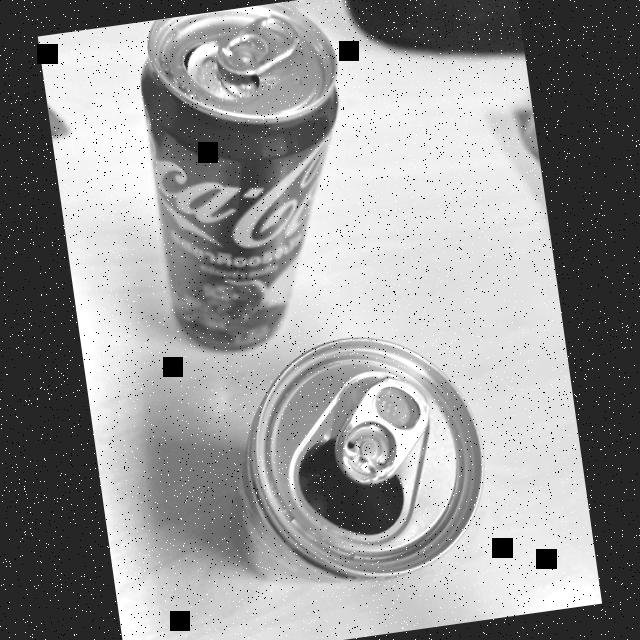can: (120, 0, 386, 369), (200, 312, 510, 603)
